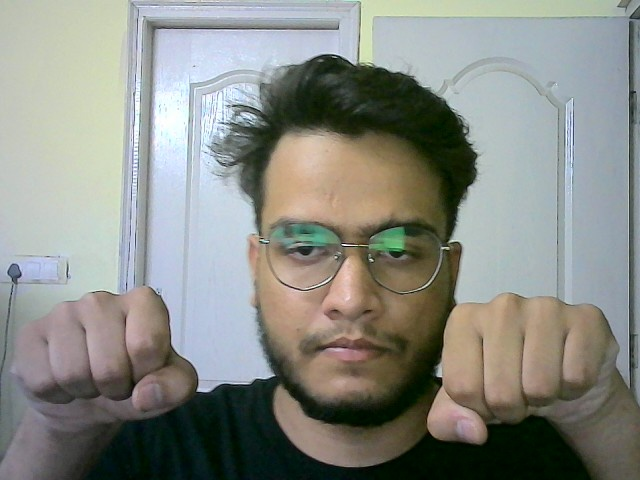Yes: (422, 296, 624, 448), (10, 289, 209, 422)
